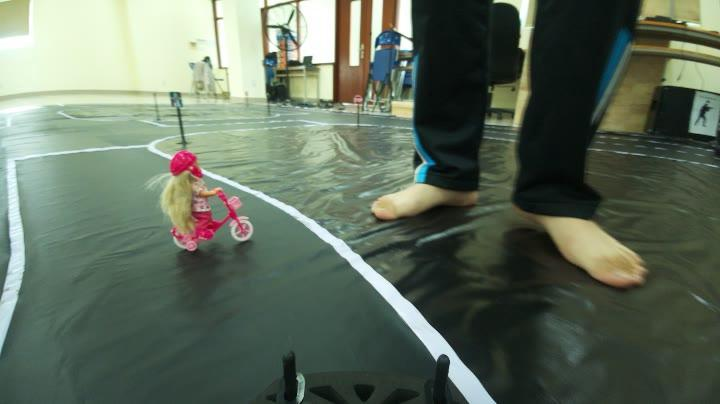pedestrian: (150, 148, 259, 250)
